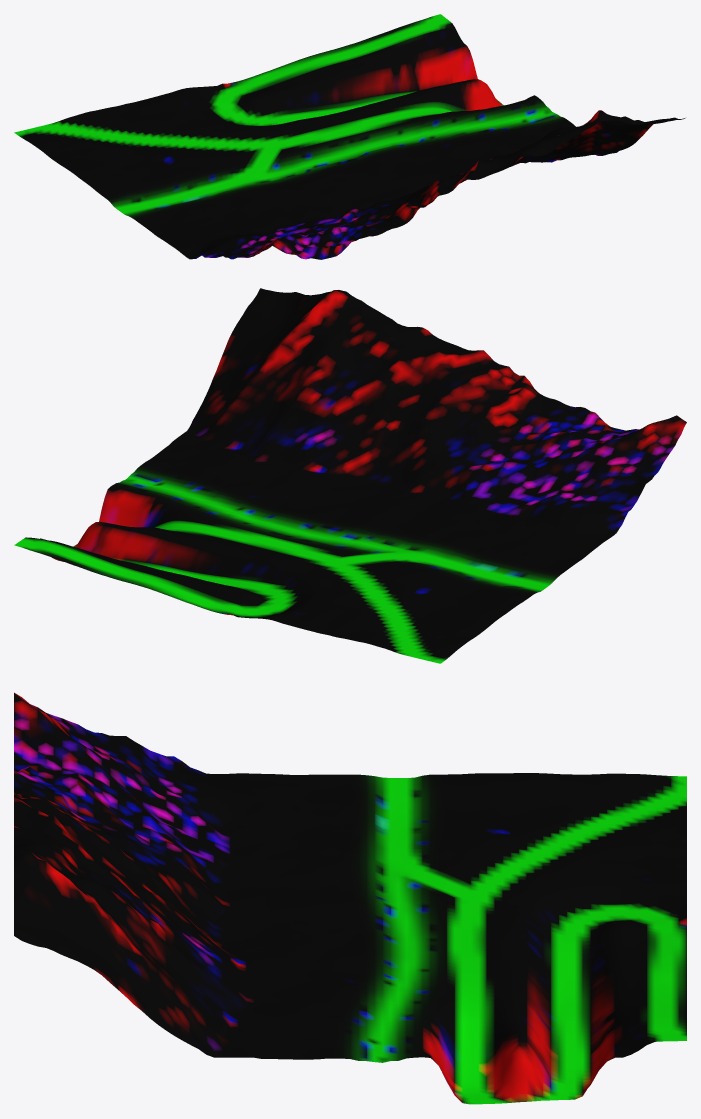
The model's file is SM_AsirMountains_Terrain_0_2.fbx.
The picture shows the model from 3 angles, top to bottom: view 1: azimuth 30°, elevation 25°; view 2: azimuth 150°, elevation 25°; view 3: azimuth 270°, elevation 25°; orthographic projection. The views are drawn at different scales.
Visible parts, largest first — view 1: SM_AsirMountains_Terrain_0_2; view 2: SM_AsirMountains_Terrain_0_2; view 3: SM_AsirMountains_Terrain_0_2.
Part boxes in pixels (<box>): SM_AsirMountains_Terrain_0_2: <box>14,14,685,259</box>; SM_AsirMountains_Terrain_0_2: <box>14,288,686,663</box>; SM_AsirMountains_Terrain_0_2: <box>14,692,686,1104</box>.
Bounding box in the file's own units: 50400 × 16530 × 50400.
